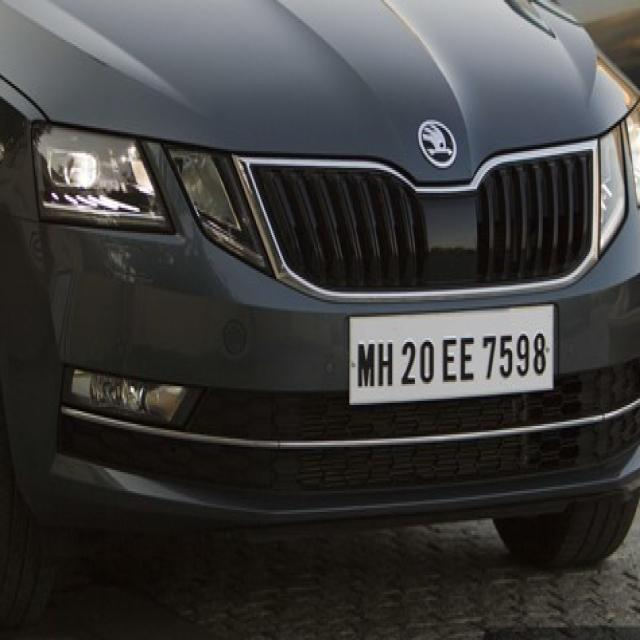license_plate: (342, 312, 556, 394)
